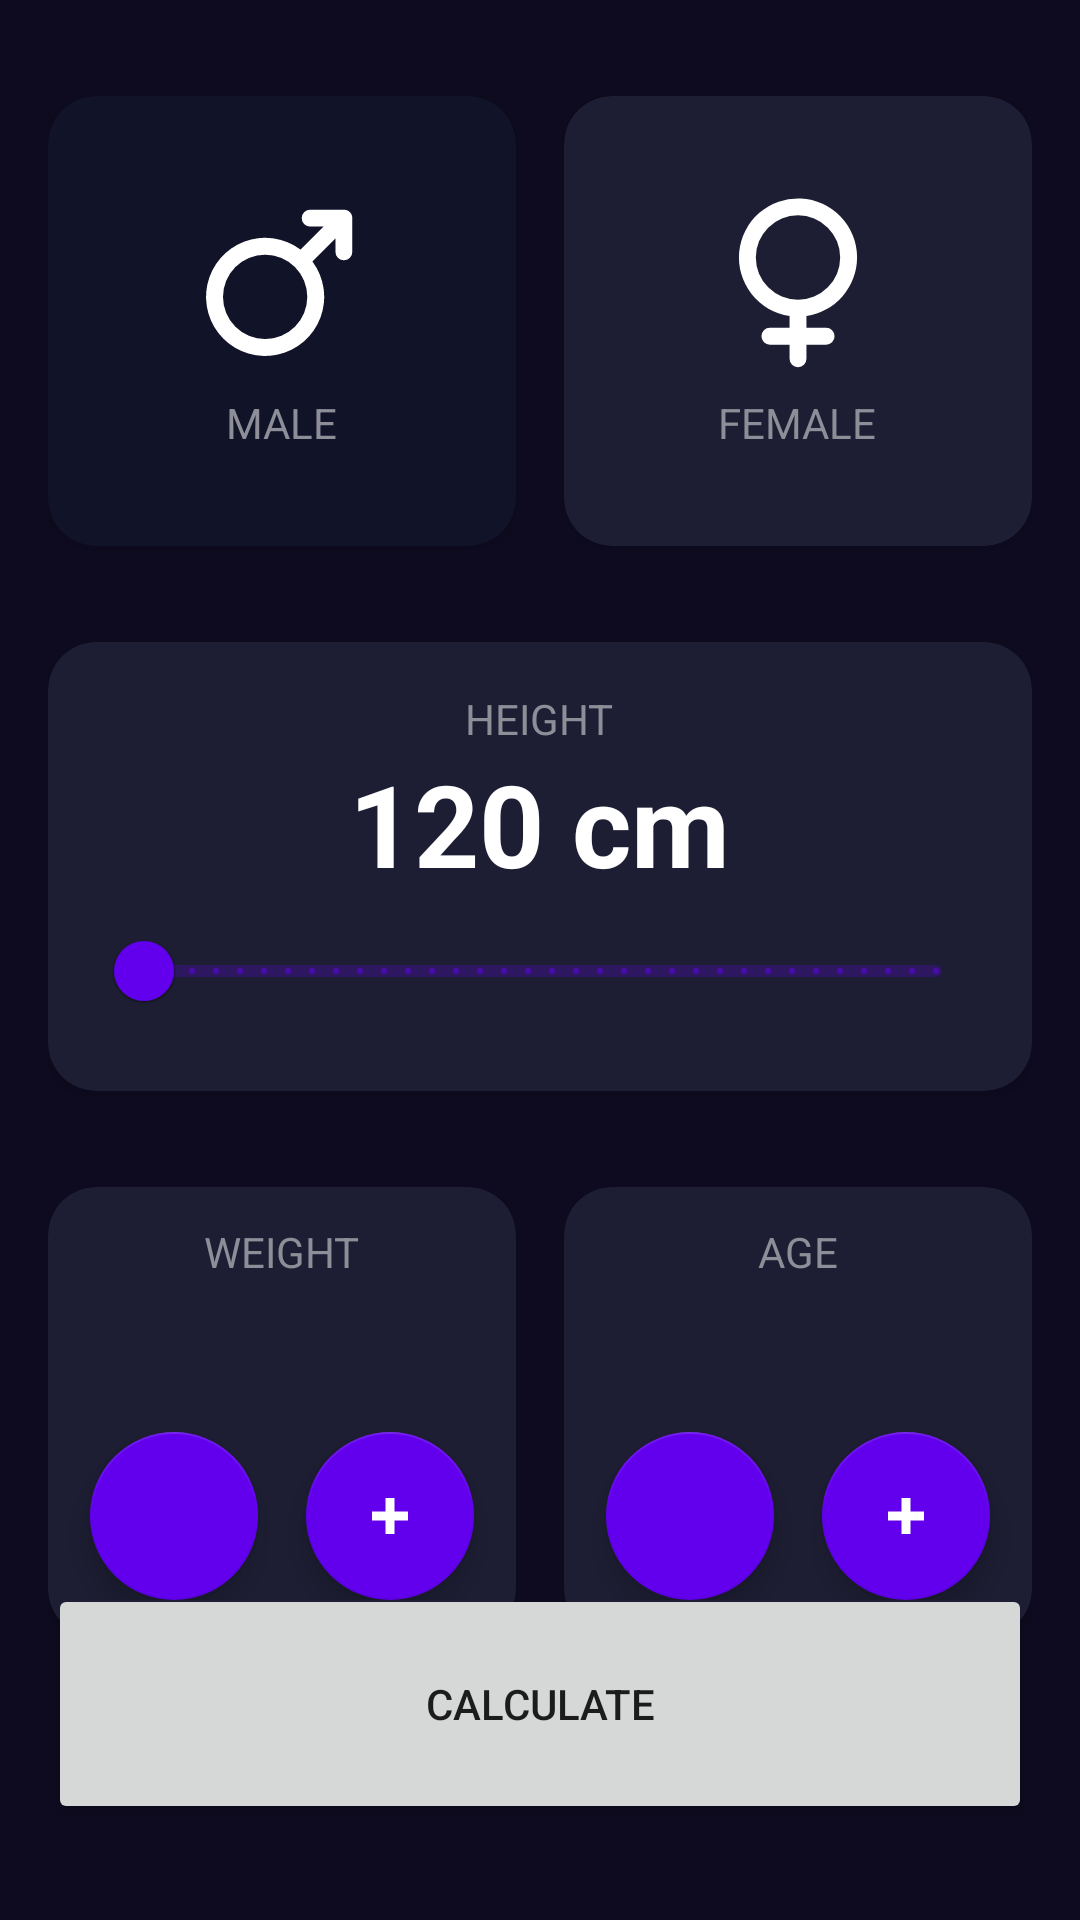

Icon click points for this 1080px×1920px phone screenshot, format point (x, y):
add: point (390, 1516), point (906, 1516)
